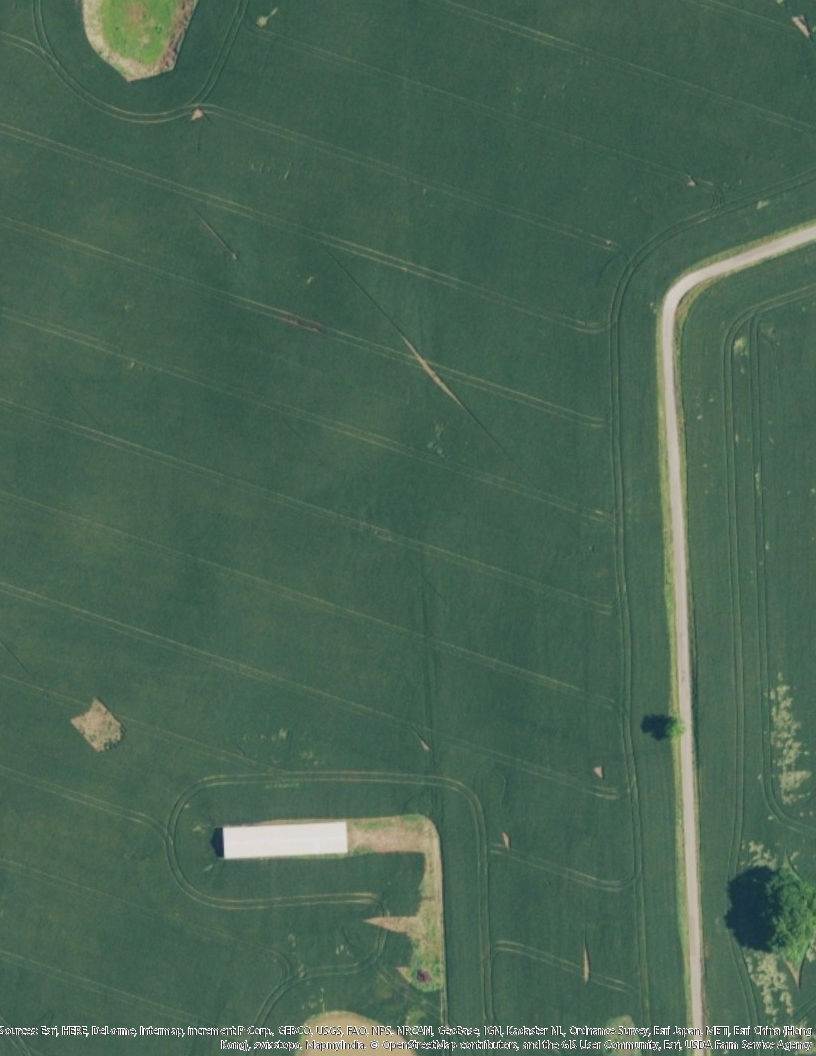cafo: (219, 815, 354, 861)
